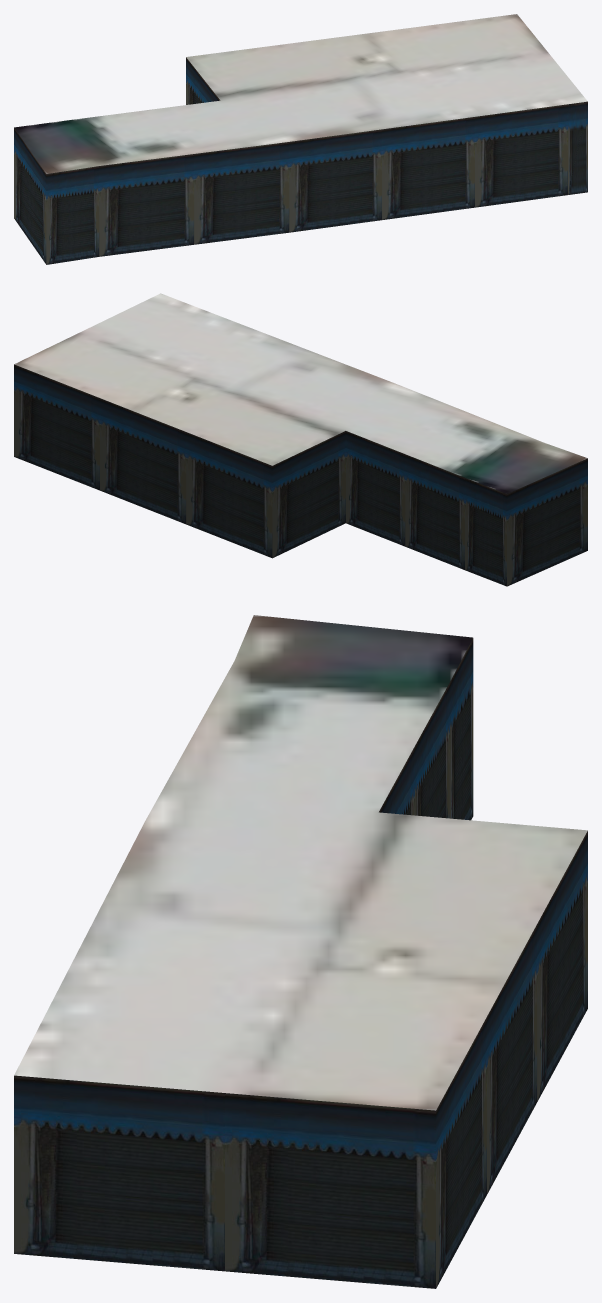
The model's file is T_1T8R84PGSG.dae.
3 views of the same model, one above another, from view 1: azimuth 30°, elevation 25°; view 2: azimuth 150°, elevation 25°; view 3: azimuth 270°, elevation 25° (orthographic). The views are drawn at different scales.
Parts seen in each view (by area): view 1: SketchUp (×7); view 2: SketchUp (×6); view 3: SketchUp (×5).
Part boxes in pixels (x1,y1,x2,y2): SketchUp (×7): [14, 14, 587, 264]; SketchUp (×6): [14, 293, 587, 586]; SketchUp (×5): [14, 615, 587, 1288].
Size of the model in its own units: 26.87 by 13.16 by 4.51.
Materials: 2 (2 with a texture image).
